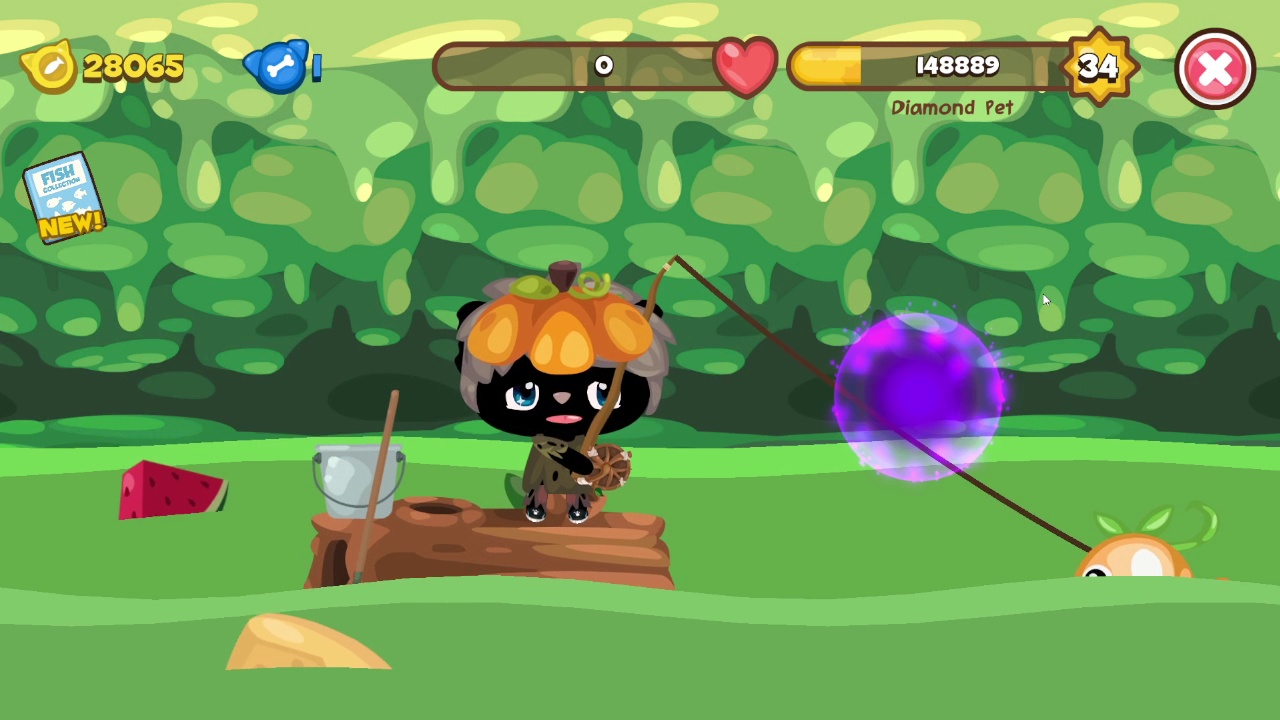point: (832, 313, 1005, 481)
